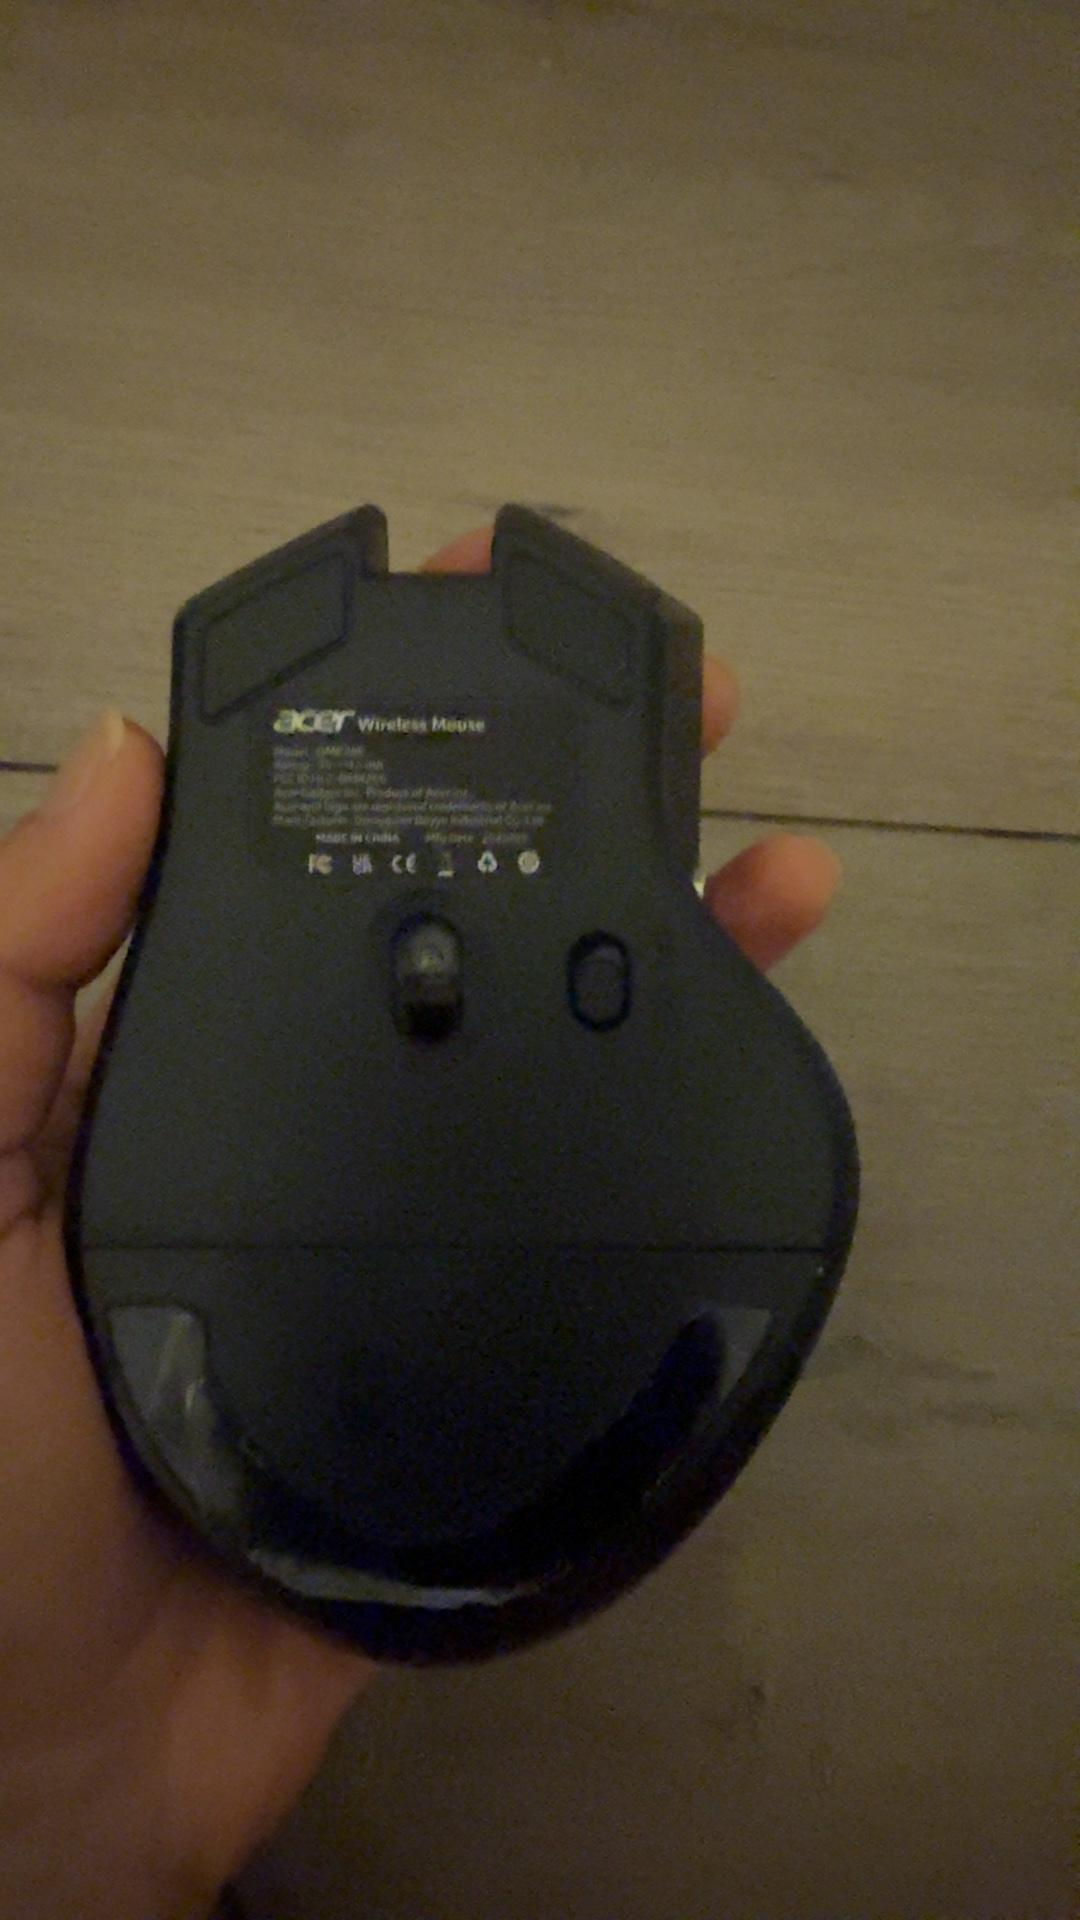Mouse: (95, 492, 876, 1683)
